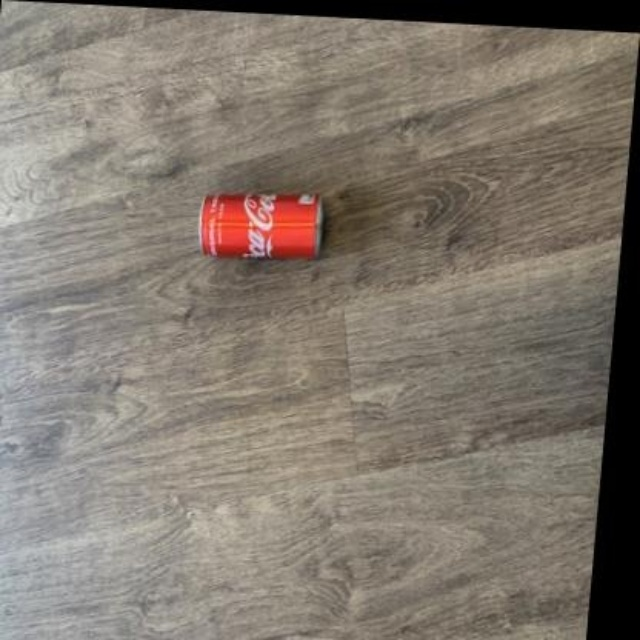trash: (200, 194, 322, 257)
